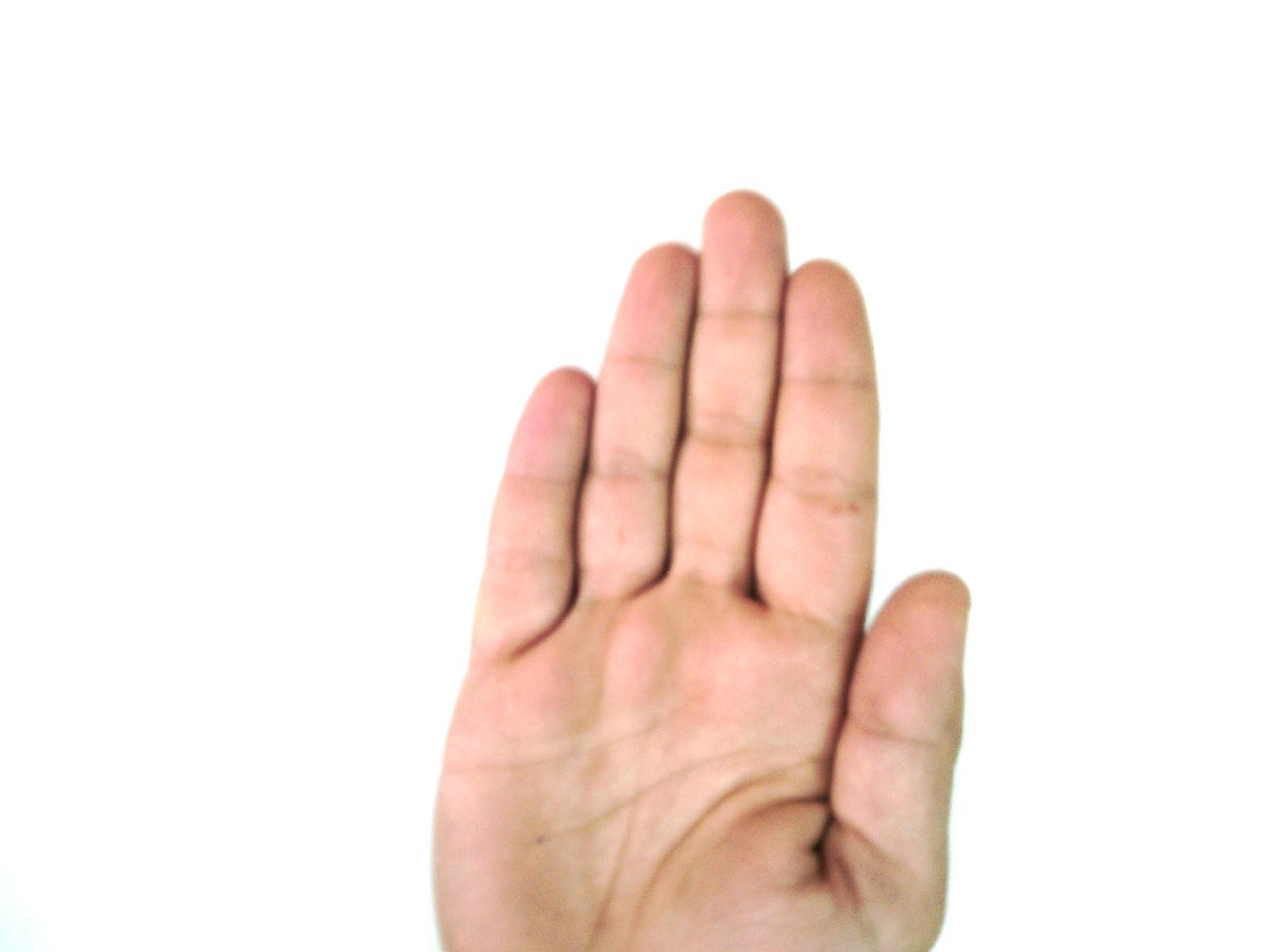open_palm: (427, 189, 975, 951)
